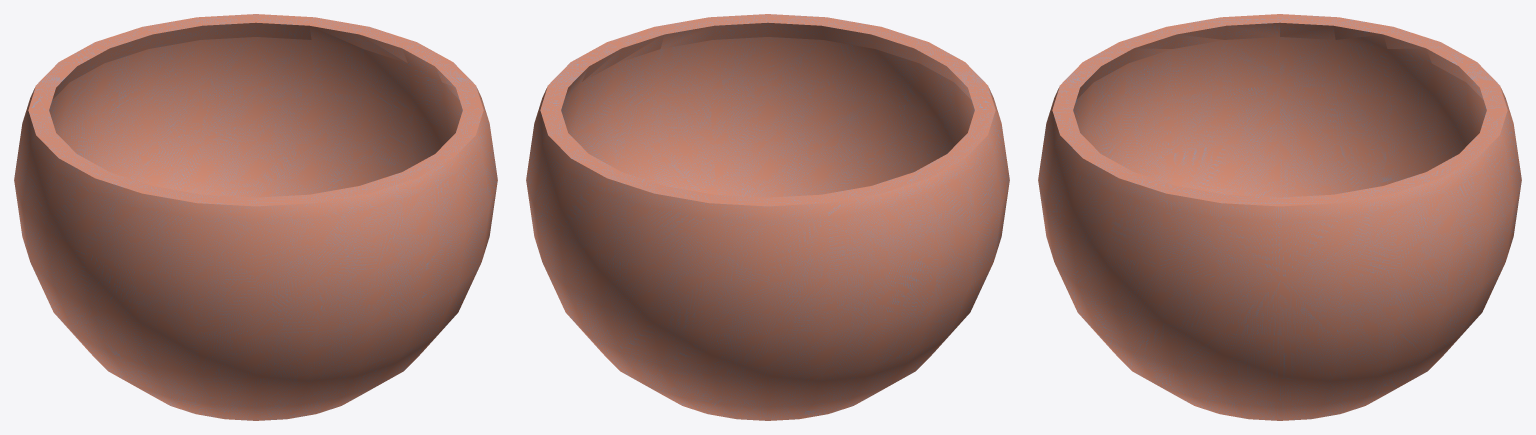
3 renders of one model, left to right at view 1: azimuth 30°, elevation 25°; view 2: azimuth 150°, elevation 25°; view 3: azimuth 270°, elevation 25°, orthographic.
Parts seen in each view (by area): view 1: SketchUp (×2); view 2: SketchUp (×2); view 3: SketchUp (×2).
Boxes of the visible parts, x1,y1,x2,y2 form: SketchUp (×2): (14,14,497,420); SketchUp (×2): (526,14,1009,420); SketchUp (×2): (1038,14,1521,420).
Bounding box in the file's own units: 266 × 266 × 175.
